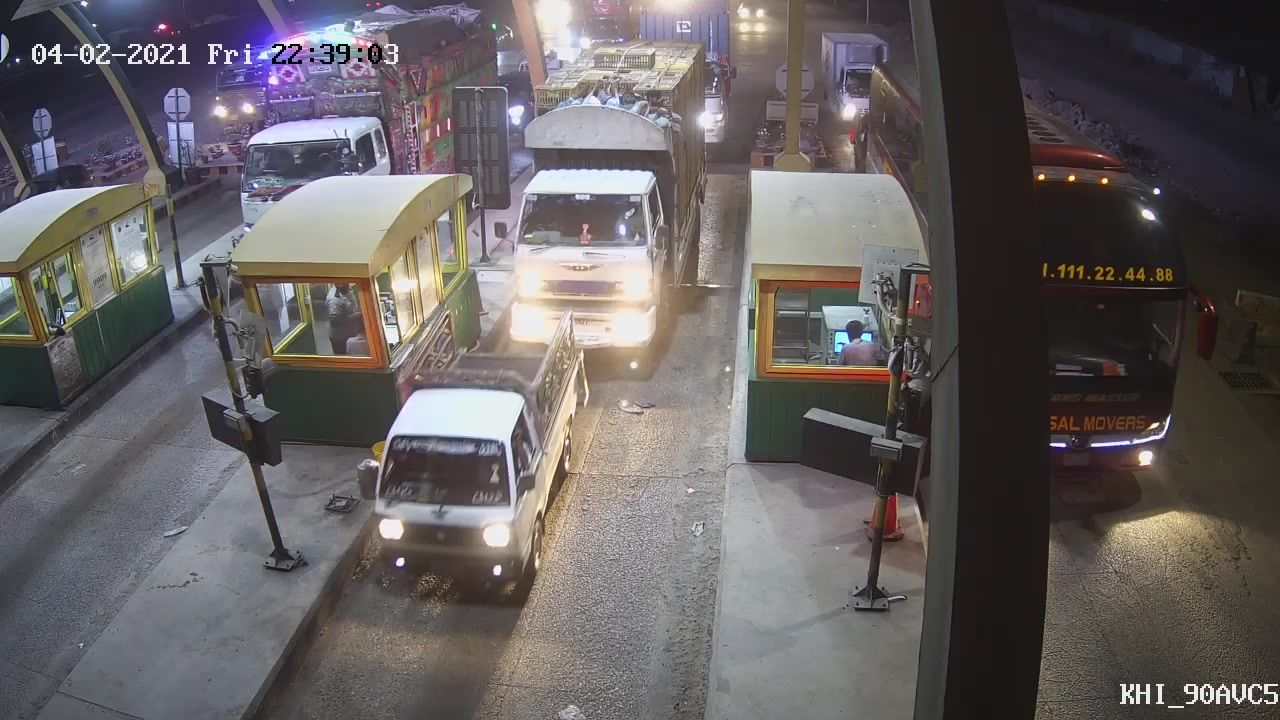F1: (369, 302, 592, 598)
